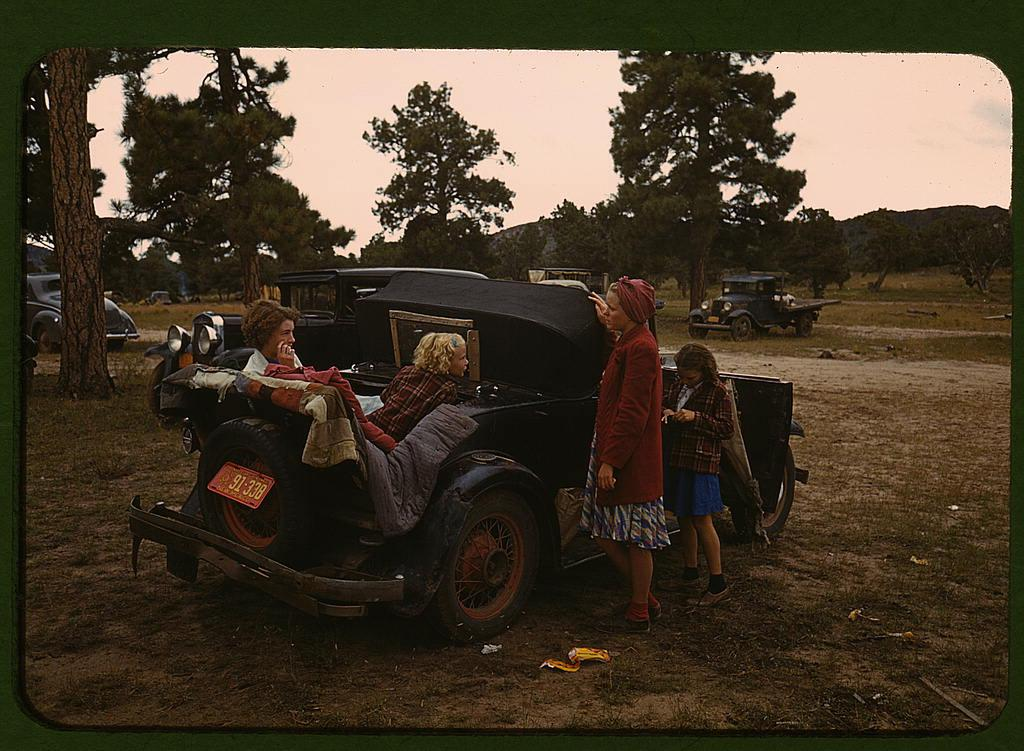face: (264, 320, 295, 357), (603, 290, 627, 329), (446, 344, 469, 376), (676, 367, 700, 387)
